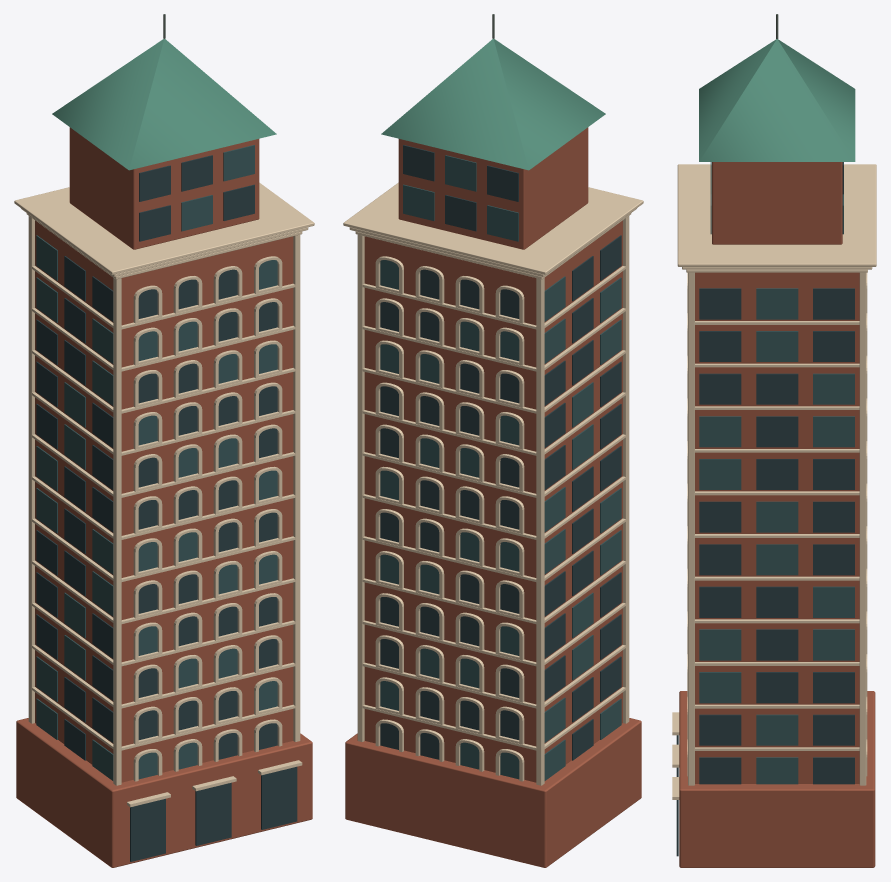
Rendered from tower-brick.glb.
The picture shows the model from 3 angles, left to right: view 1: azimuth 30°, elevation 25°; view 2: azimuth 150°, elevation 25°; view 3: azimuth 270°, elevation 25°; orthographic projection.
Parts seen in each view (by area): view 1: tower-brick, tower-stone, tower-window-dark, tower-window-lit, tower-copper; view 2: tower-brick, tower-stone, tower-window-dark, tower-window-lit, tower-copper; view 3: tower-brick, tower-window-dark, tower-stone, tower-window-lit, tower-copper.
Boxes of the visible parts, left/top/right/bottom form: tower-brick: left=16, top=127, right=312, bottom=867; tower-stone: left=14, top=182, right=314, bottom=807; tower-window-dark: left=36, top=155, right=297, bottom=861; tower-window-lit: left=36, top=145, right=277, bottom=780; tower-copper: left=52, top=39, right=276, bottom=170; tower-brick: left=345, top=127, right=641, bottom=867; tower-stone: left=343, top=182, right=643, bottom=785; tower-window-dark: left=380, top=145, right=621, bottom=760; tower-window-lit: left=380, top=155, right=621, bottom=780; tower-copper: left=381, top=39, right=605, bottom=170; tower-brick: left=679, top=162, right=875, bottom=867; tower-window-dark: left=676, top=162, right=854, bottom=856; tower-stone: left=672, top=164, right=876, bottom=799; tower-window-lit: left=699, top=162, right=854, bottom=784; tower-copper: left=699, top=39, right=855, bottom=161.
Bounding box in the file's own units: 13.36 × 50 × 11.5.
